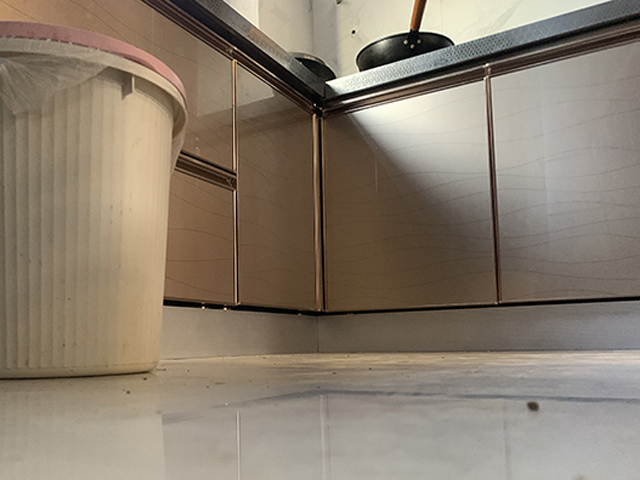cabinet: (315, 15, 640, 359), (169, 1, 323, 359)
trashcan: (1, 19, 188, 380)
